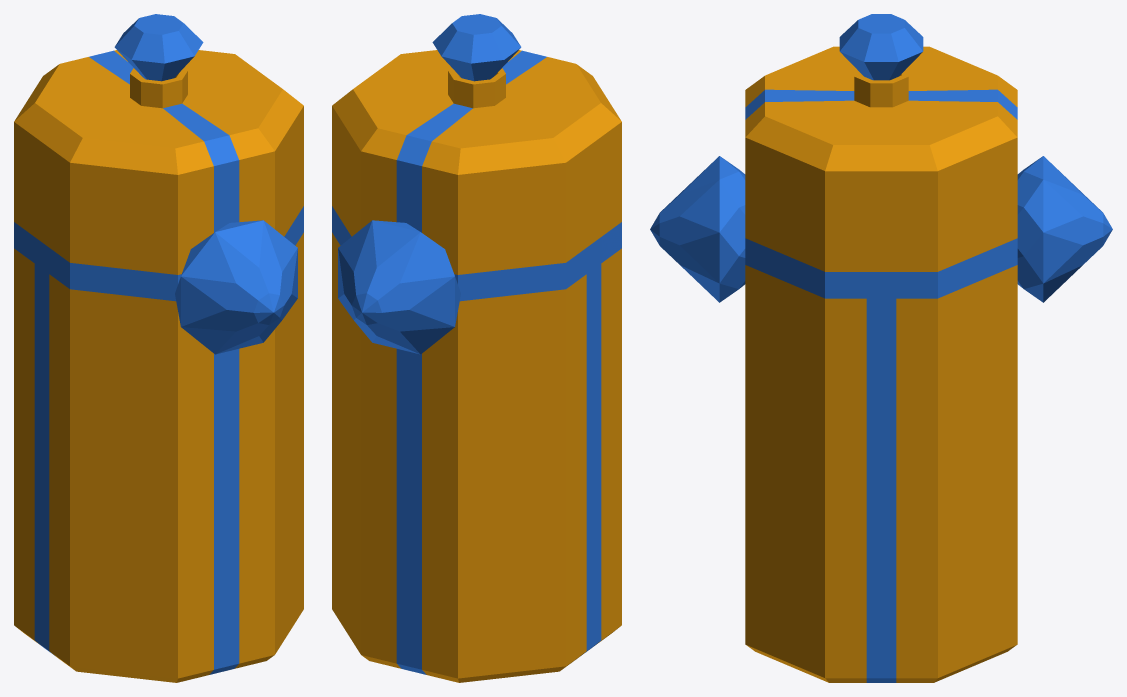
The model's file is LP_Reflector_180.fbx.
3 views of the same model, side by side, from view 1: azimuth 30°, elevation 25°; view 2: azimuth 150°, elevation 25°; view 3: azimuth 270°, elevation 25° (orthographic).
Visible parts, largest first — view 1: Cylinder.001; view 2: Cylinder.001; view 3: Cylinder.001.
Boxes of the visible parts, bbox=[...] form: Cylinder.001: bbox=[14, 14, 303, 682]; Cylinder.001: bbox=[332, 14, 621, 682]; Cylinder.001: bbox=[650, 14, 1112, 682].
Size of the model in its own units: 1.39 by 3.41 by 2.36.
